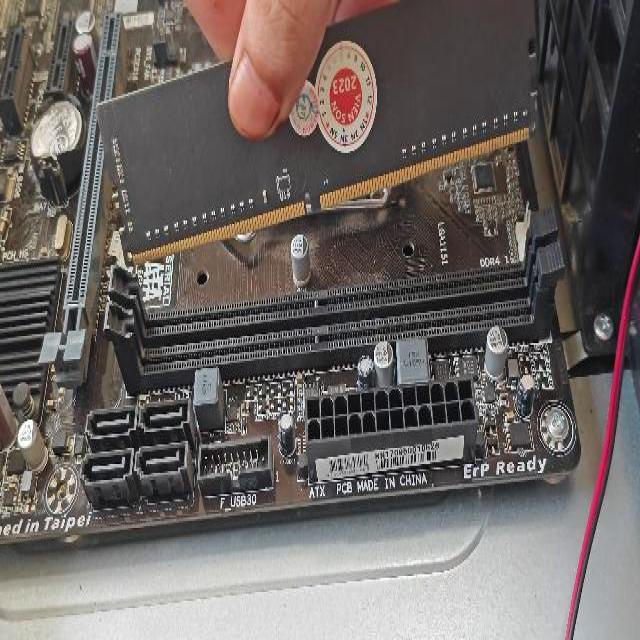Mainboard: (1, 0, 582, 544)
RAM: (96, 0, 540, 270)
